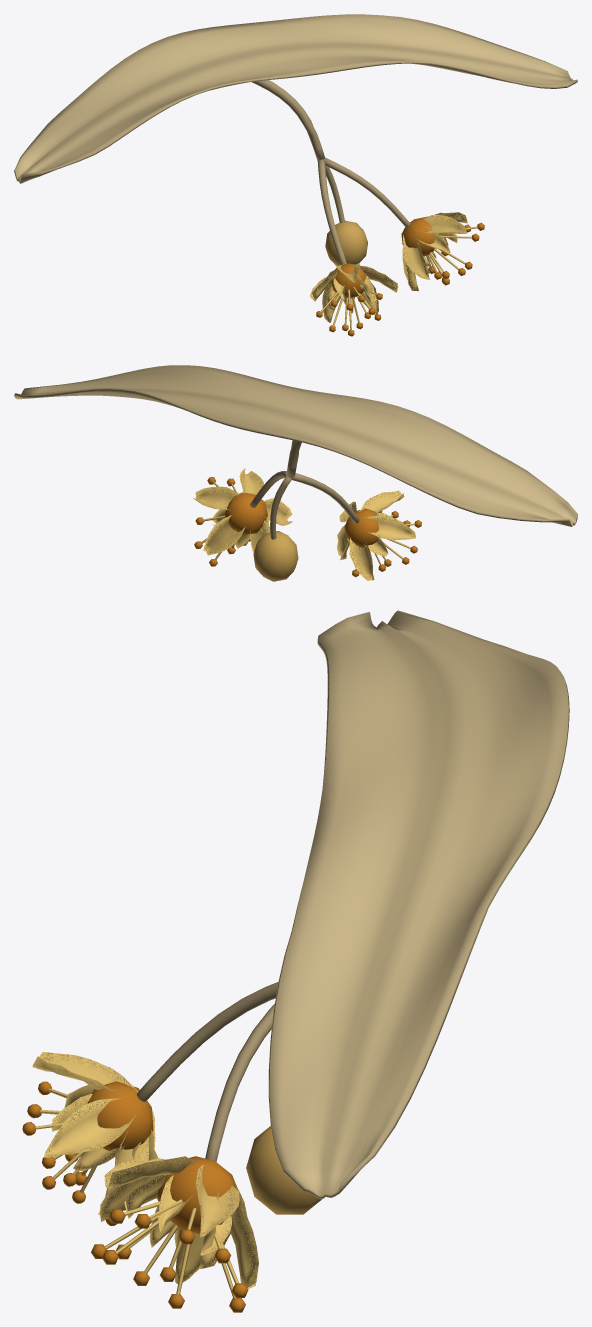
The model's file is чай2вруке.fbx.
3 renders of one model, top to bottom at view 1: azimuth 30°, elevation 25°; view 2: azimuth 150°, elevation 25°; view 3: azimuth 270°, elevation 25°, orthographic. The views are drawn at different scales.
Visible parts, largest first — view 1: Липа_Крылышко, Липа_Цветок_1, Липа_Цветок_2, Липа_Бутон, Липа_Ножка, Липа_Веточка_1, Липа_Веточка_2; view 2: Липа_Крылышко, Липа_Цветок_1, Липа_Цветок_2, Липа_Бутон, Липа_Веточка_2, Липа_Веточка_3, Липа_Веточка_1, Липа_Ножка; view 3: Липа_Крылышко, Липа_Цветок_1, Липа_Цветок_2, Липа_Бутон, Липа_Веточка_2, Липа_Веточка_1.
Part boxes in pixels (x1=…): Липа_Крылышко: x1=14, y1=14, x2=577, y2=183; Липа_Цветок_1: x1=401, y1=212, x2=484, y2=291; Липа_Цветок_2: x1=310, y1=263, x2=398, y2=336; Липа_Бутон: x1=325, y1=220, x2=367, y2=266; Липа_Ножка: x1=251, y1=80, x2=324, y2=160; Липа_Веточка_1: x1=323, y1=157, x2=410, y2=227; Липа_Веточка_2: x1=317, y1=159, x2=346, y2=264; Липа_Крылышко: x1=14, y1=365, x2=577, y2=526; Липа_Цветок_1: x1=193, y1=468, x2=292, y2=566; Липа_Цветок_2: x1=337, y1=490, x2=421, y2=580; Липа_Бутон: x1=253, y1=531, x2=298, y2=581; Липа_Веточка_2: x1=291, y1=473, x2=359, y2=523; Липа_Веточка_3: x1=270, y1=476, x2=291, y2=539; Липа_Веточка_1: x1=250, y1=471, x2=286, y2=507; Липа_Ножка: x1=286, y1=440, x2=301, y2=478; Липа_Крылышко: x1=268, y1=610, x2=569, y2=1199; Липа_Цветок_1: x1=91, y1=1156, x2=258, y2=1312; Липа_Цветок_2: x1=22, y1=1052, x2=158, y2=1225; Липа_Бутон: x1=246, y1=1126, x2=321, y2=1214; Липа_Веточка_2: x1=137, y1=982, x2=278, y2=1101; Липа_Веточка_1: x1=205, y1=1004, x2=274, y2=1161.
Size of the model in its own units: 1.65 by 0.6679 by 0.7244.
